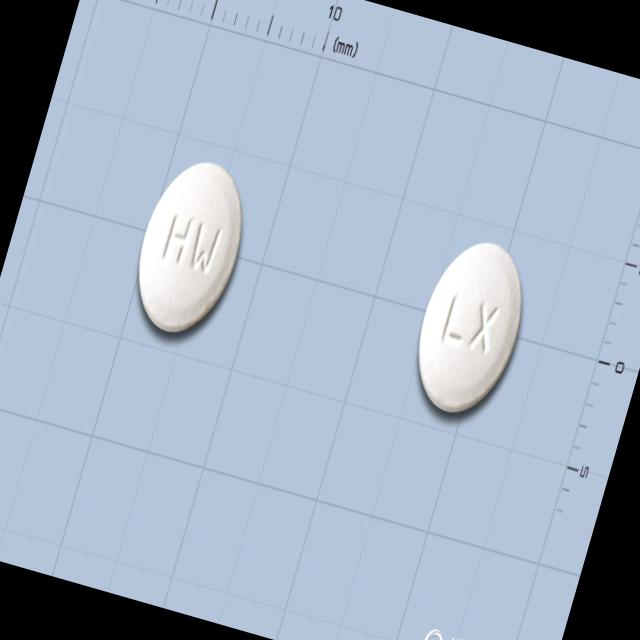Max-xacin: (400, 228, 540, 426), (120, 150, 260, 346)
